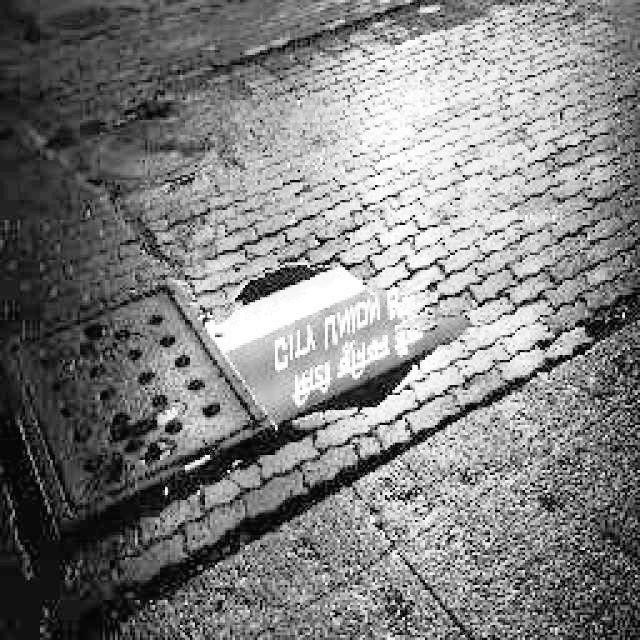Pothole: (176, 247, 481, 467)
